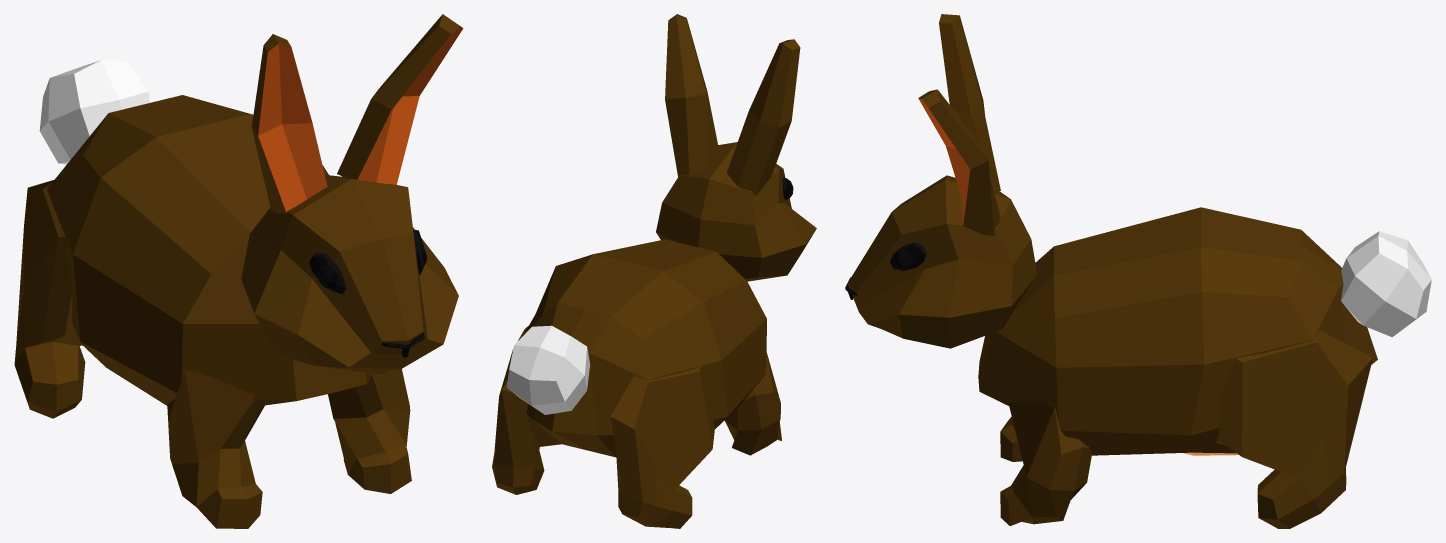
Rendered from lowPolyBunny.fbx.
3 views of the same model, side by side, from view 1: azimuth 30°, elevation 25°; view 2: azimuth 150°, elevation 25°; view 3: azimuth 270°, elevation 25° (orthographic). The views are drawn at different scales.
Parts seen in each view (by area): view 1: Cube; view 2: Cube; view 3: Cube.
Part boxes in pixels (x1,y1,x2,y2): Cube: (14, 14, 463, 528); Cube: (492, 14, 816, 528); Cube: (845, 14, 1431, 528).
Size of the model in its own units: 57.31 by 104 by 124.
